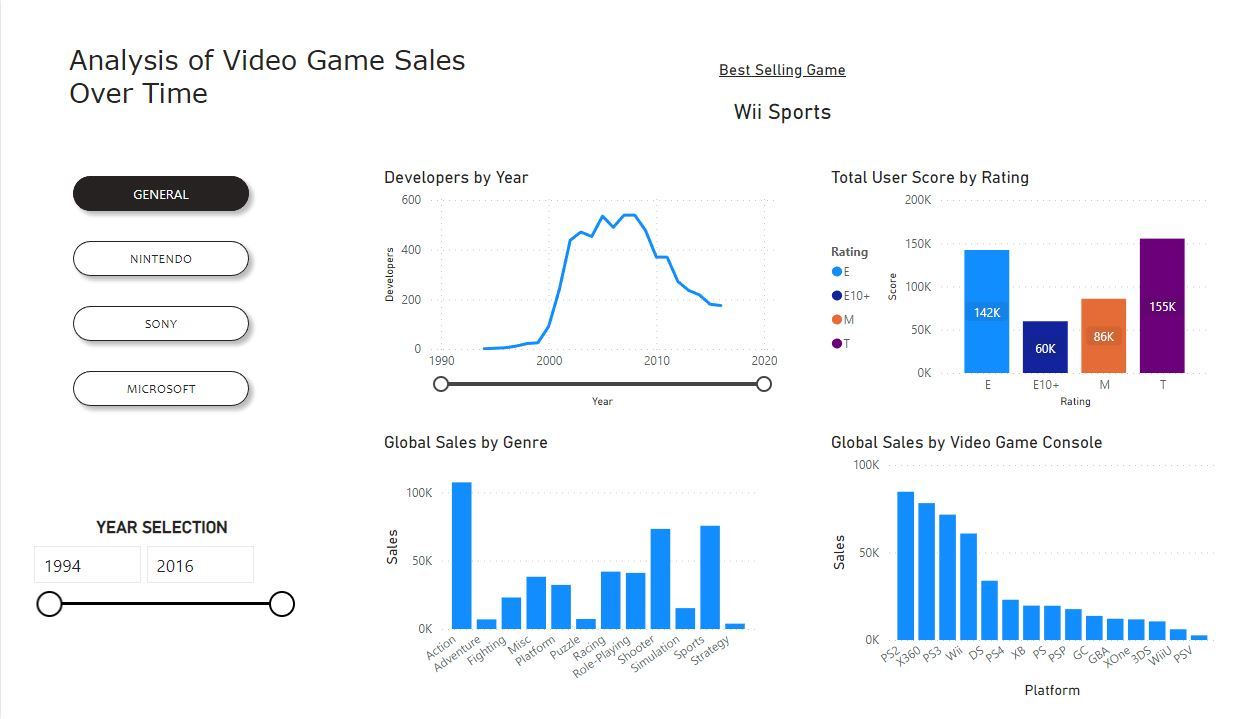

The dashboard page shown, as its layout file describes it:
{"tool":"powerbi","page":{"name":"Page 1","canvas":[1280,720],"ordinal":0},"visuals":[{"type":"columnChart","title":"Global Sales by Video Game Console","fields":{"Category":["data_clean.Platform"],"Y":["Sum(data_clean.Global_Sales)"]},"box":[821,433,429,263],"z":1000},{"type":"bookmarkNavigator","box":[152,170,113,288],"z":2000},{"type":"columnChart","title":"Total User Score by Rating","fields":{"Category":["data_clean.Rating"],"Y":["Sum(data_clean.User_Score)"],"Series":["data_clean.Rating"]},"box":[821,173,429,250],"z":3000},{"type":"slicer","title":"YEAR SELECTION","fields":{"Values":["data_clean.Year_of_Release"]},"box":[65,526,255,194],"z":4000},{"type":"card","title":"Best Selling Game","fields":{"Values":["data_clean.Producto Más Vendido"]},"box":[734,41.3,173,98.3],"z":5000},{"type":"columnChart","title":"Global Sales by Genre","fields":{"Category":["data_clean.Genre"],"Y":["Sum(data_clean.Global_Sales)"]},"box":[378,433,425,263],"z":6000},{"type":"lineChart","title":"Nº Developers by Year","fields":{"Category":["data_clean.Year_of_Release"],"Y":["CountNonNull(data_clean.Developer)"]},"box":[378,168,425,255],"z":7000}]}

Visuals, with their boxes on the page's 1280x720 design canvas (x1, y1, x2, y2). These are canvas units, not pixel positions in the 1244x719 screenshot, which may show the page scaled, cropped or inside an application window:
"Global Sales by Video Game Console" columnChart: 821 433 1250 696
bookmarkNavigator: 152 170 265 458
"Total User Score by Rating" columnChart: 821 173 1250 423
"YEAR SELECTION" slicer: 65 526 320 720
"Best Selling Game" card: 734 41 907 140
"Global Sales by Genre" columnChart: 378 433 803 696
"Nº Developers by Year" lineChart: 378 168 803 423
